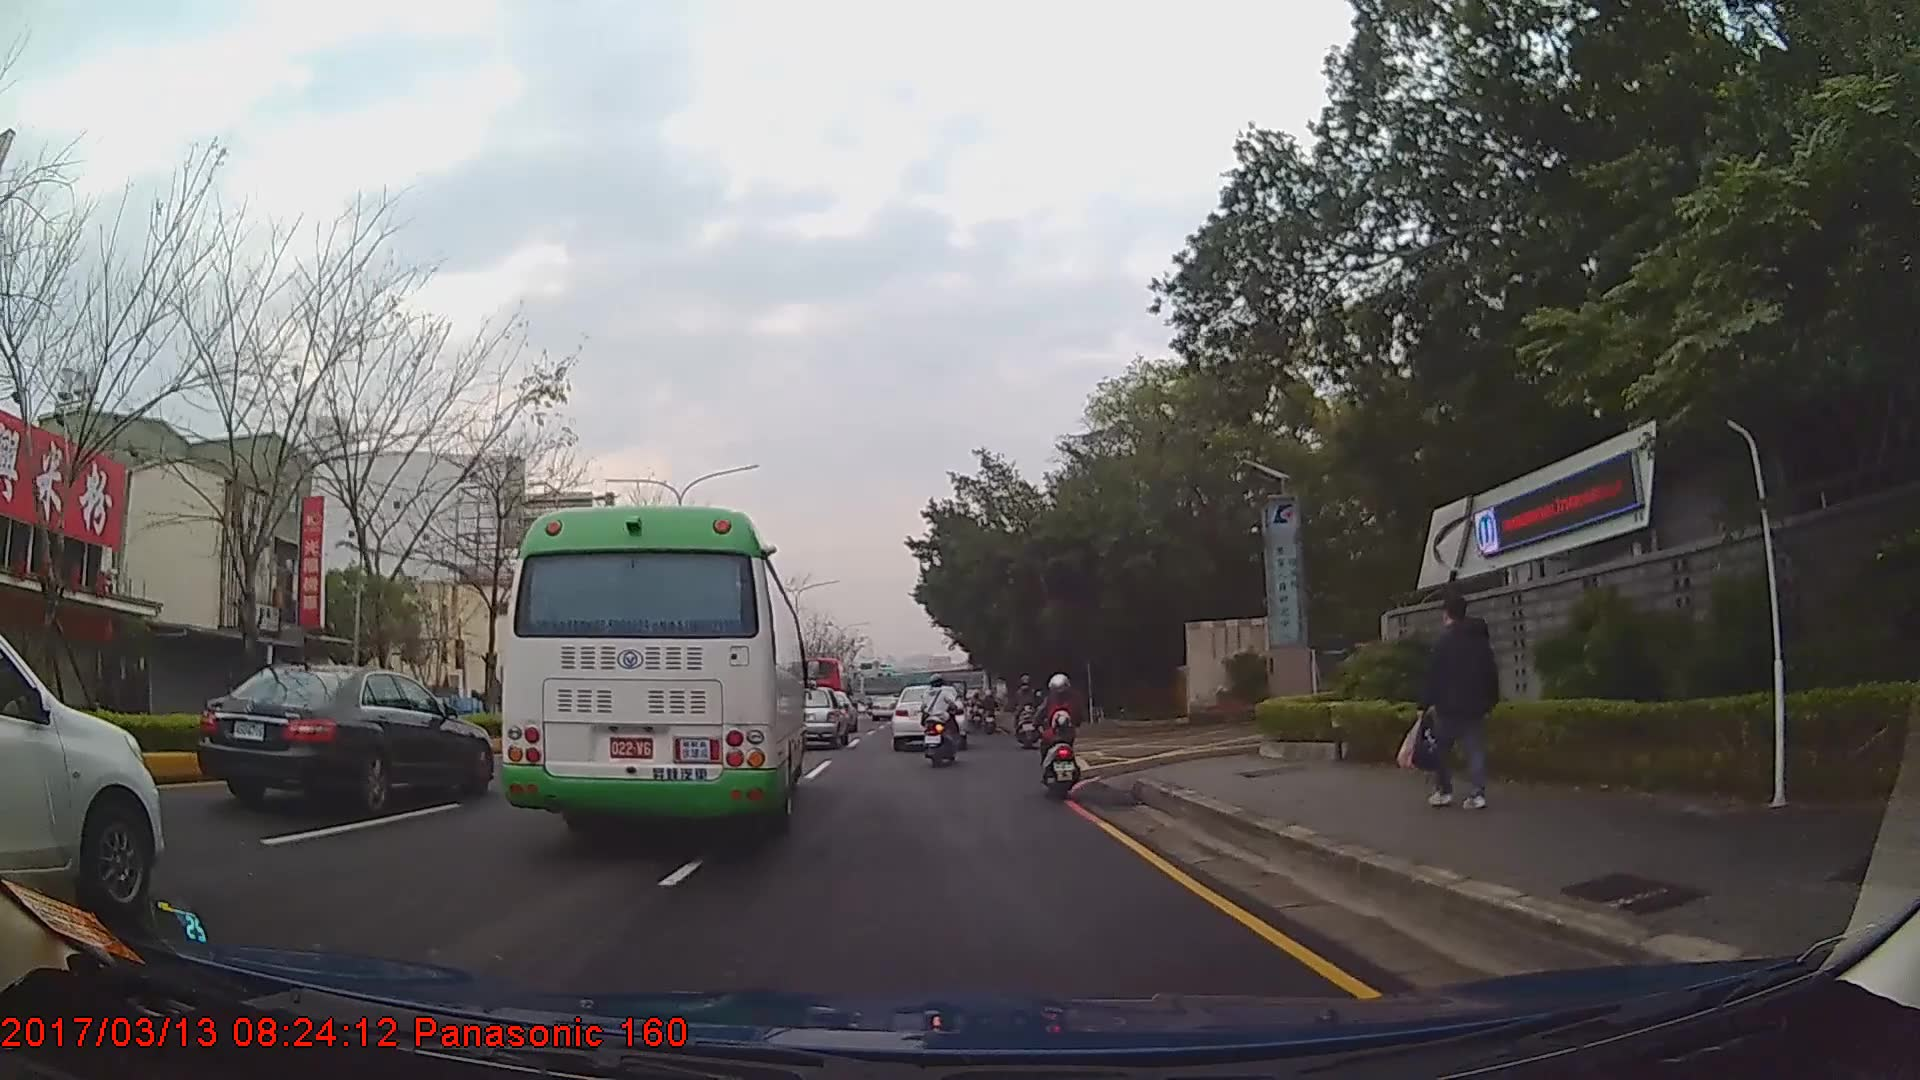pedestrian: (1399, 600, 1497, 812)
rider: (1037, 671, 1078, 797), (922, 676, 963, 765), (1010, 675, 1043, 751), (980, 691, 1000, 726)
vehicle: (502, 505, 806, 845), (0, 629, 164, 914), (195, 663, 495, 815), (892, 683, 965, 752)
